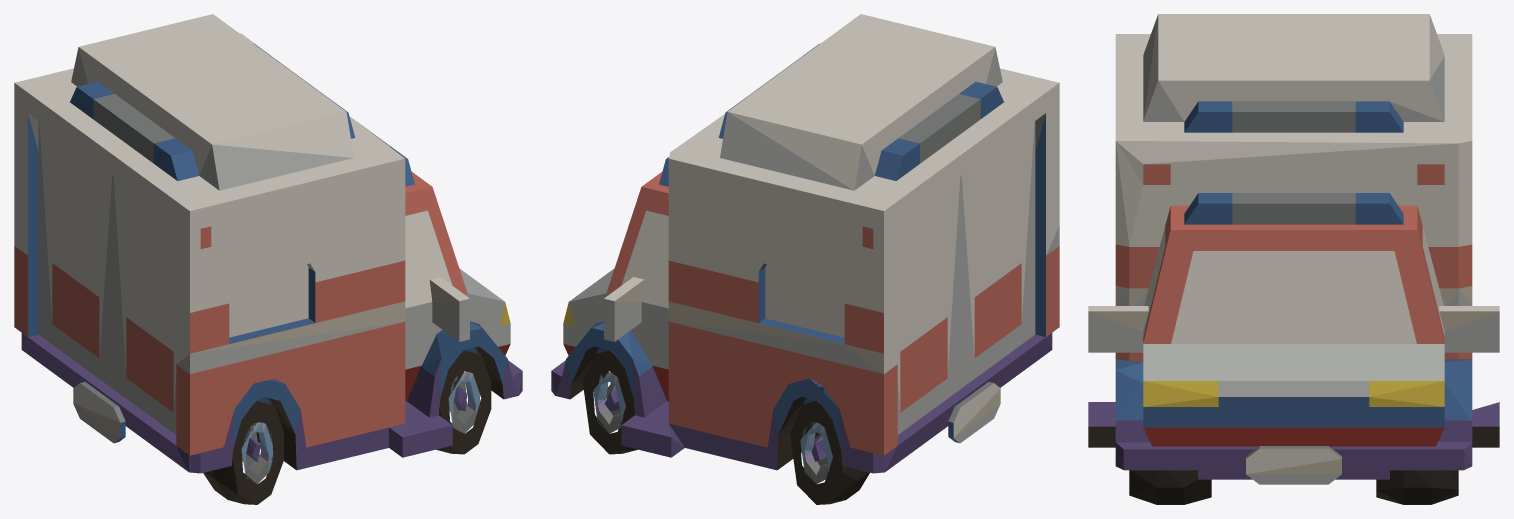
File: ambulance.glb
The picture shows the model from 3 angles, left to right: view 1: azimuth 30°, elevation 25°; view 2: azimuth 150°, elevation 25°; view 3: azimuth 270°, elevation 25°; orthographic projection.
Size of the model in its own units: 1 by 1 by 1.
